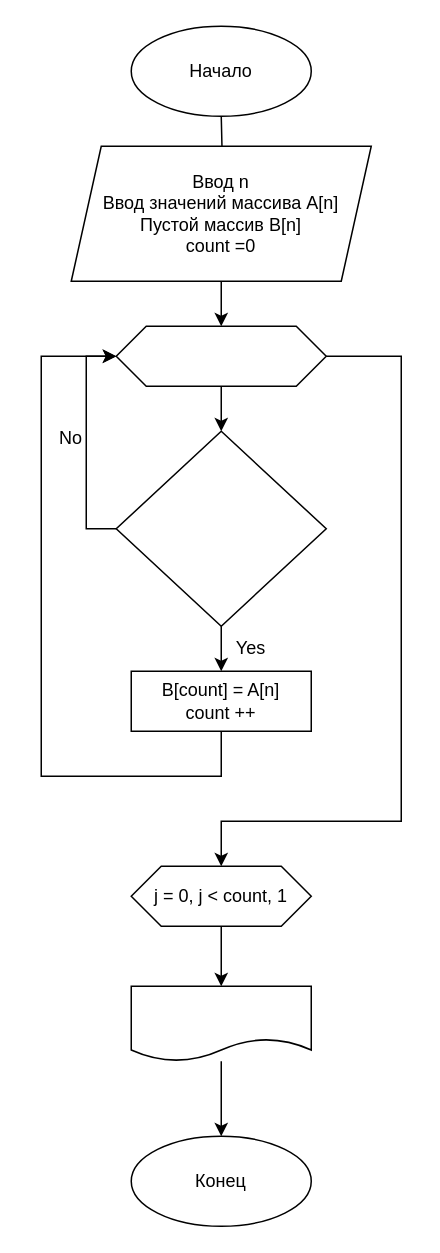
Image size: 440x1253. Some labels were removed from this diagram. The centre of each missing label's shape, as x and y in pixels:
i = 0, i < n, 1: (x=220, y=355)
Вывод "B[j]": (x=220, y=1023)
Длина A[n]<=3: (x=220, y=528)
